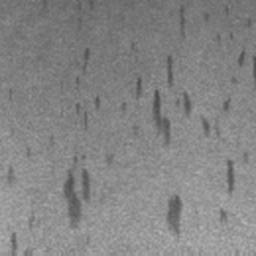Red iron sheet: (74, 49, 230, 146), (63, 155, 90, 230), (229, 50, 256, 84), (166, 193, 182, 234), (10, 233, 33, 256), (179, 4, 187, 41), (227, 160, 234, 195), (220, 209, 227, 220), (8, 168, 13, 183), (26, 147, 31, 157)
